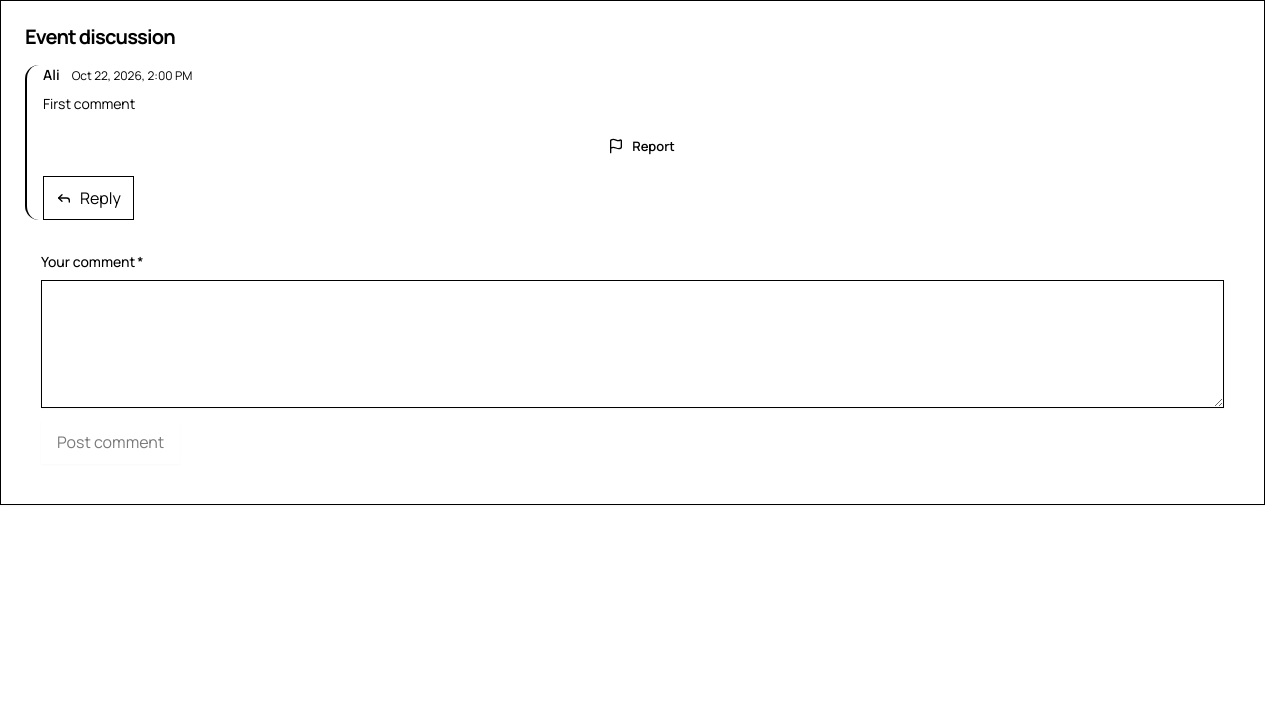
it: EventDiscussion › posts an eligible reply and refreshes the discussion
This screenshot has width=1280, height=720.
expect the text "First comment" is shown: met, box [43, 94, 135, 113]
Click the button "Reply" at (88, 198), box [43, 176, 134, 220]
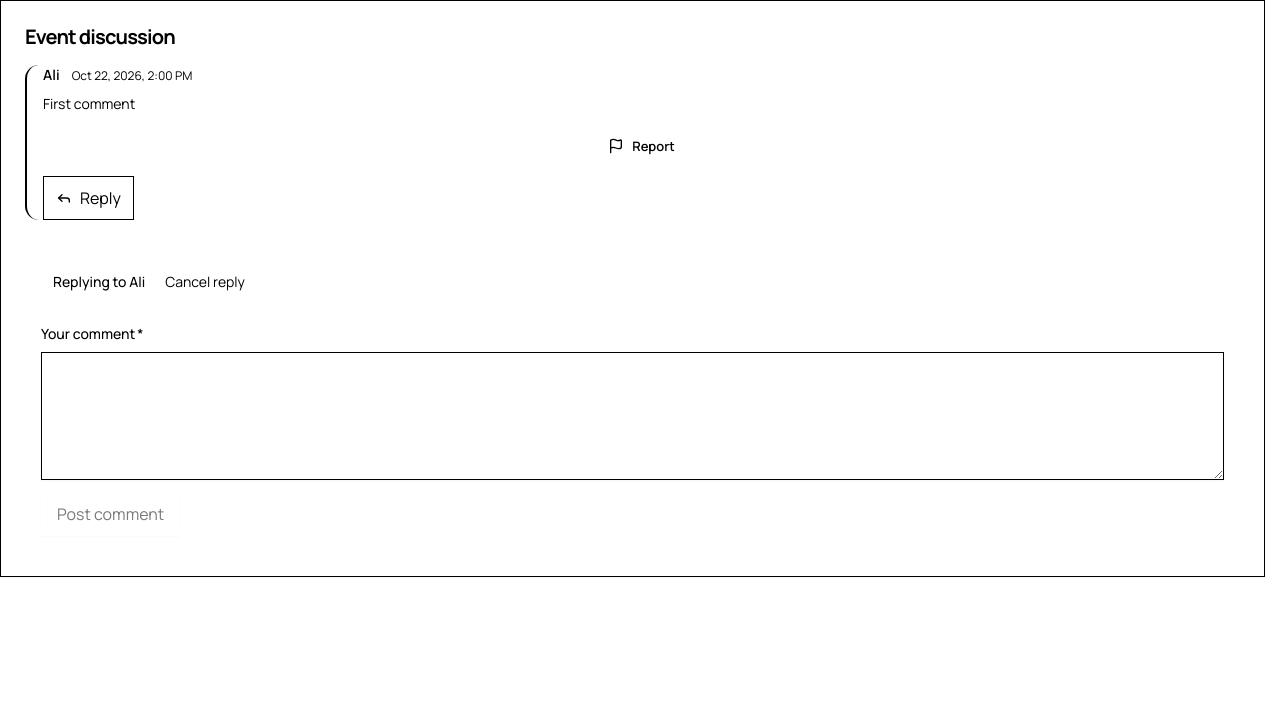
expect the text "Replying to Ali" is shown: met, box [53, 272, 145, 292]
Type "See you there!" into the text box labelled "Your comment" at (632, 416), box [41, 352, 1224, 480]
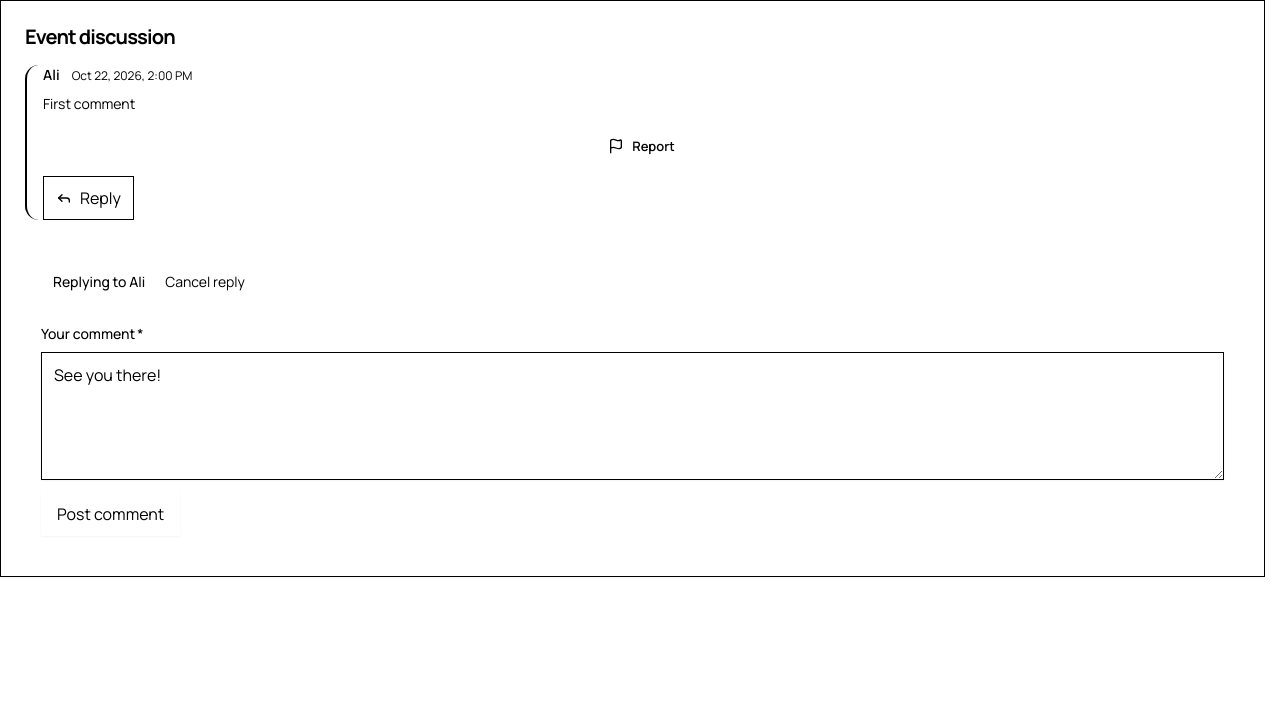
Click the button "Post comment" at (111, 514), box [41, 492, 180, 536]
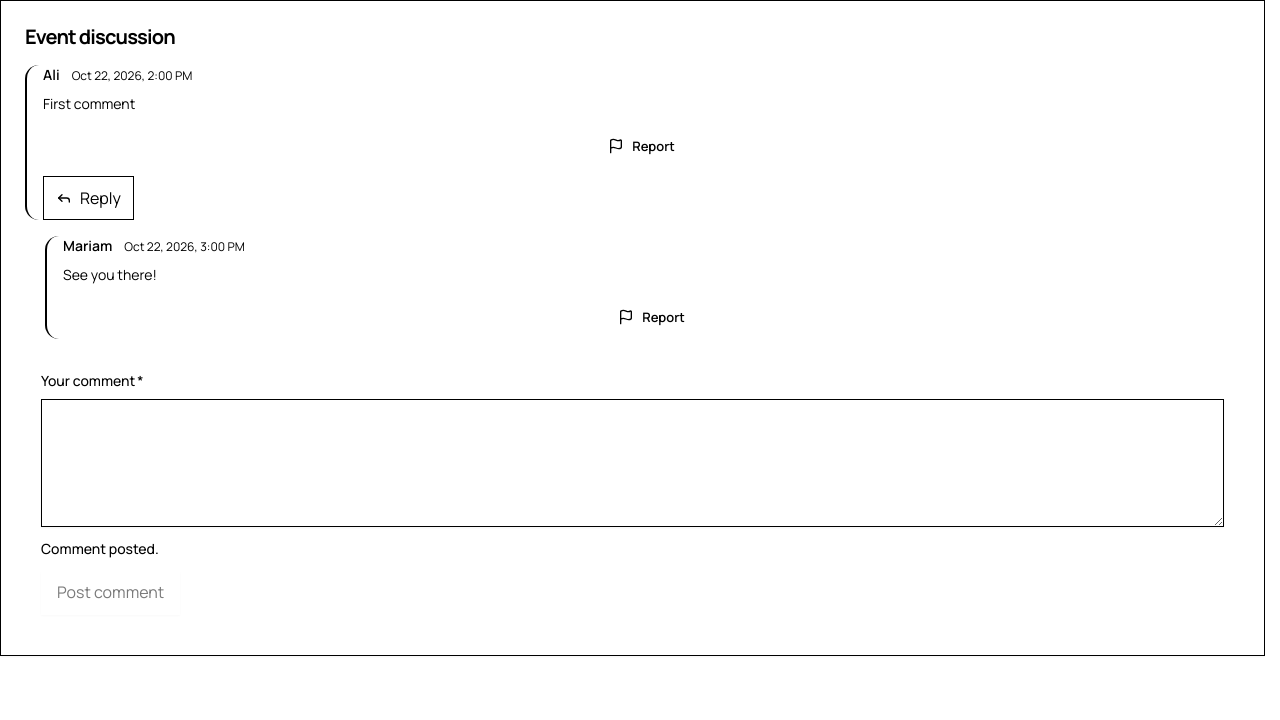
expect the text "See you there!" is shown: met, box [63, 265, 157, 284]
